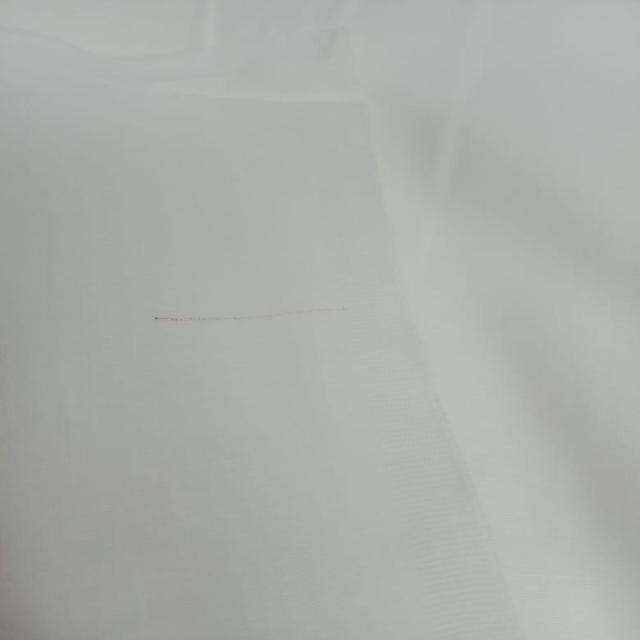contamination: (144, 304, 352, 324)
